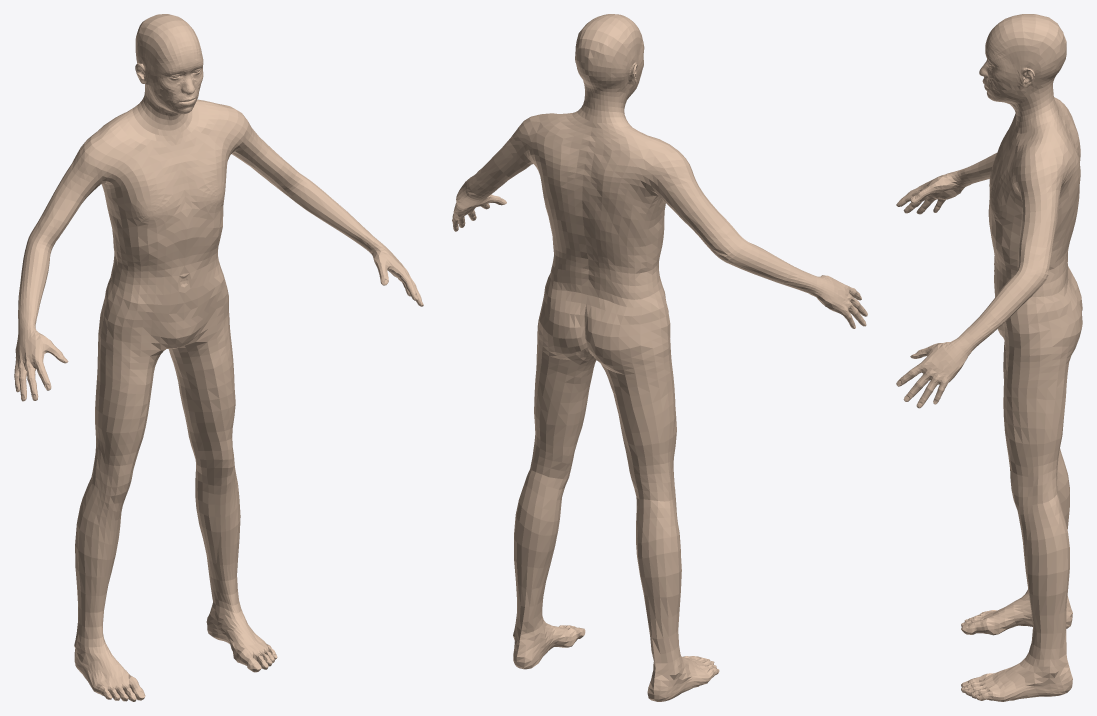
File: male-mature-lean-low.glb
3 views of the same model, side by side, from view 1: azimuth 30°, elevation 25°; view 2: azimuth 150°, elevation 25°; view 3: azimuth 270°, elevation 25° (orthographic).
Parts seen in each view (by area): view 1: world; view 2: world; view 3: world.
Part boxes in pixels (bbox=[...]): world: bbox=[14, 14, 423, 701]; world: bbox=[452, 14, 867, 701]; world: bbox=[896, 14, 1082, 701].
Size of the model in its own units: 1.26 by 1.94 by 0.5086.
